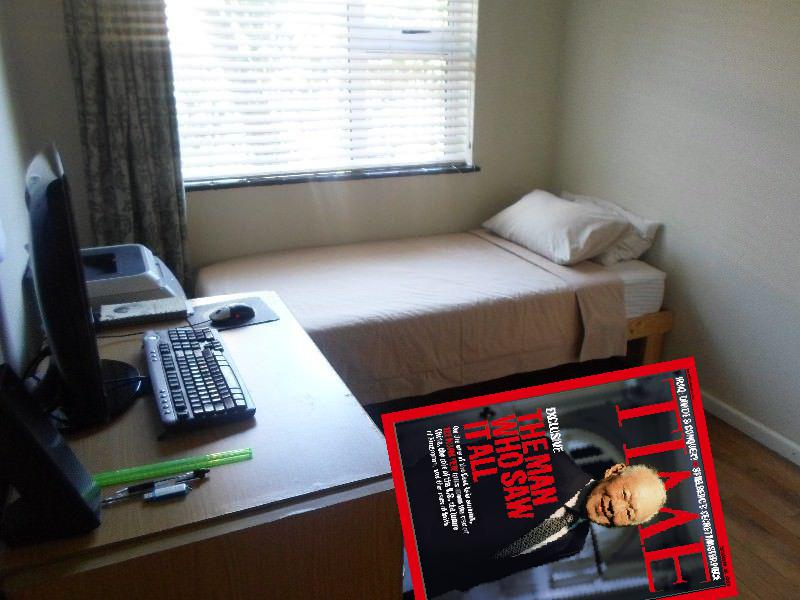times: (378, 352, 738, 600)
